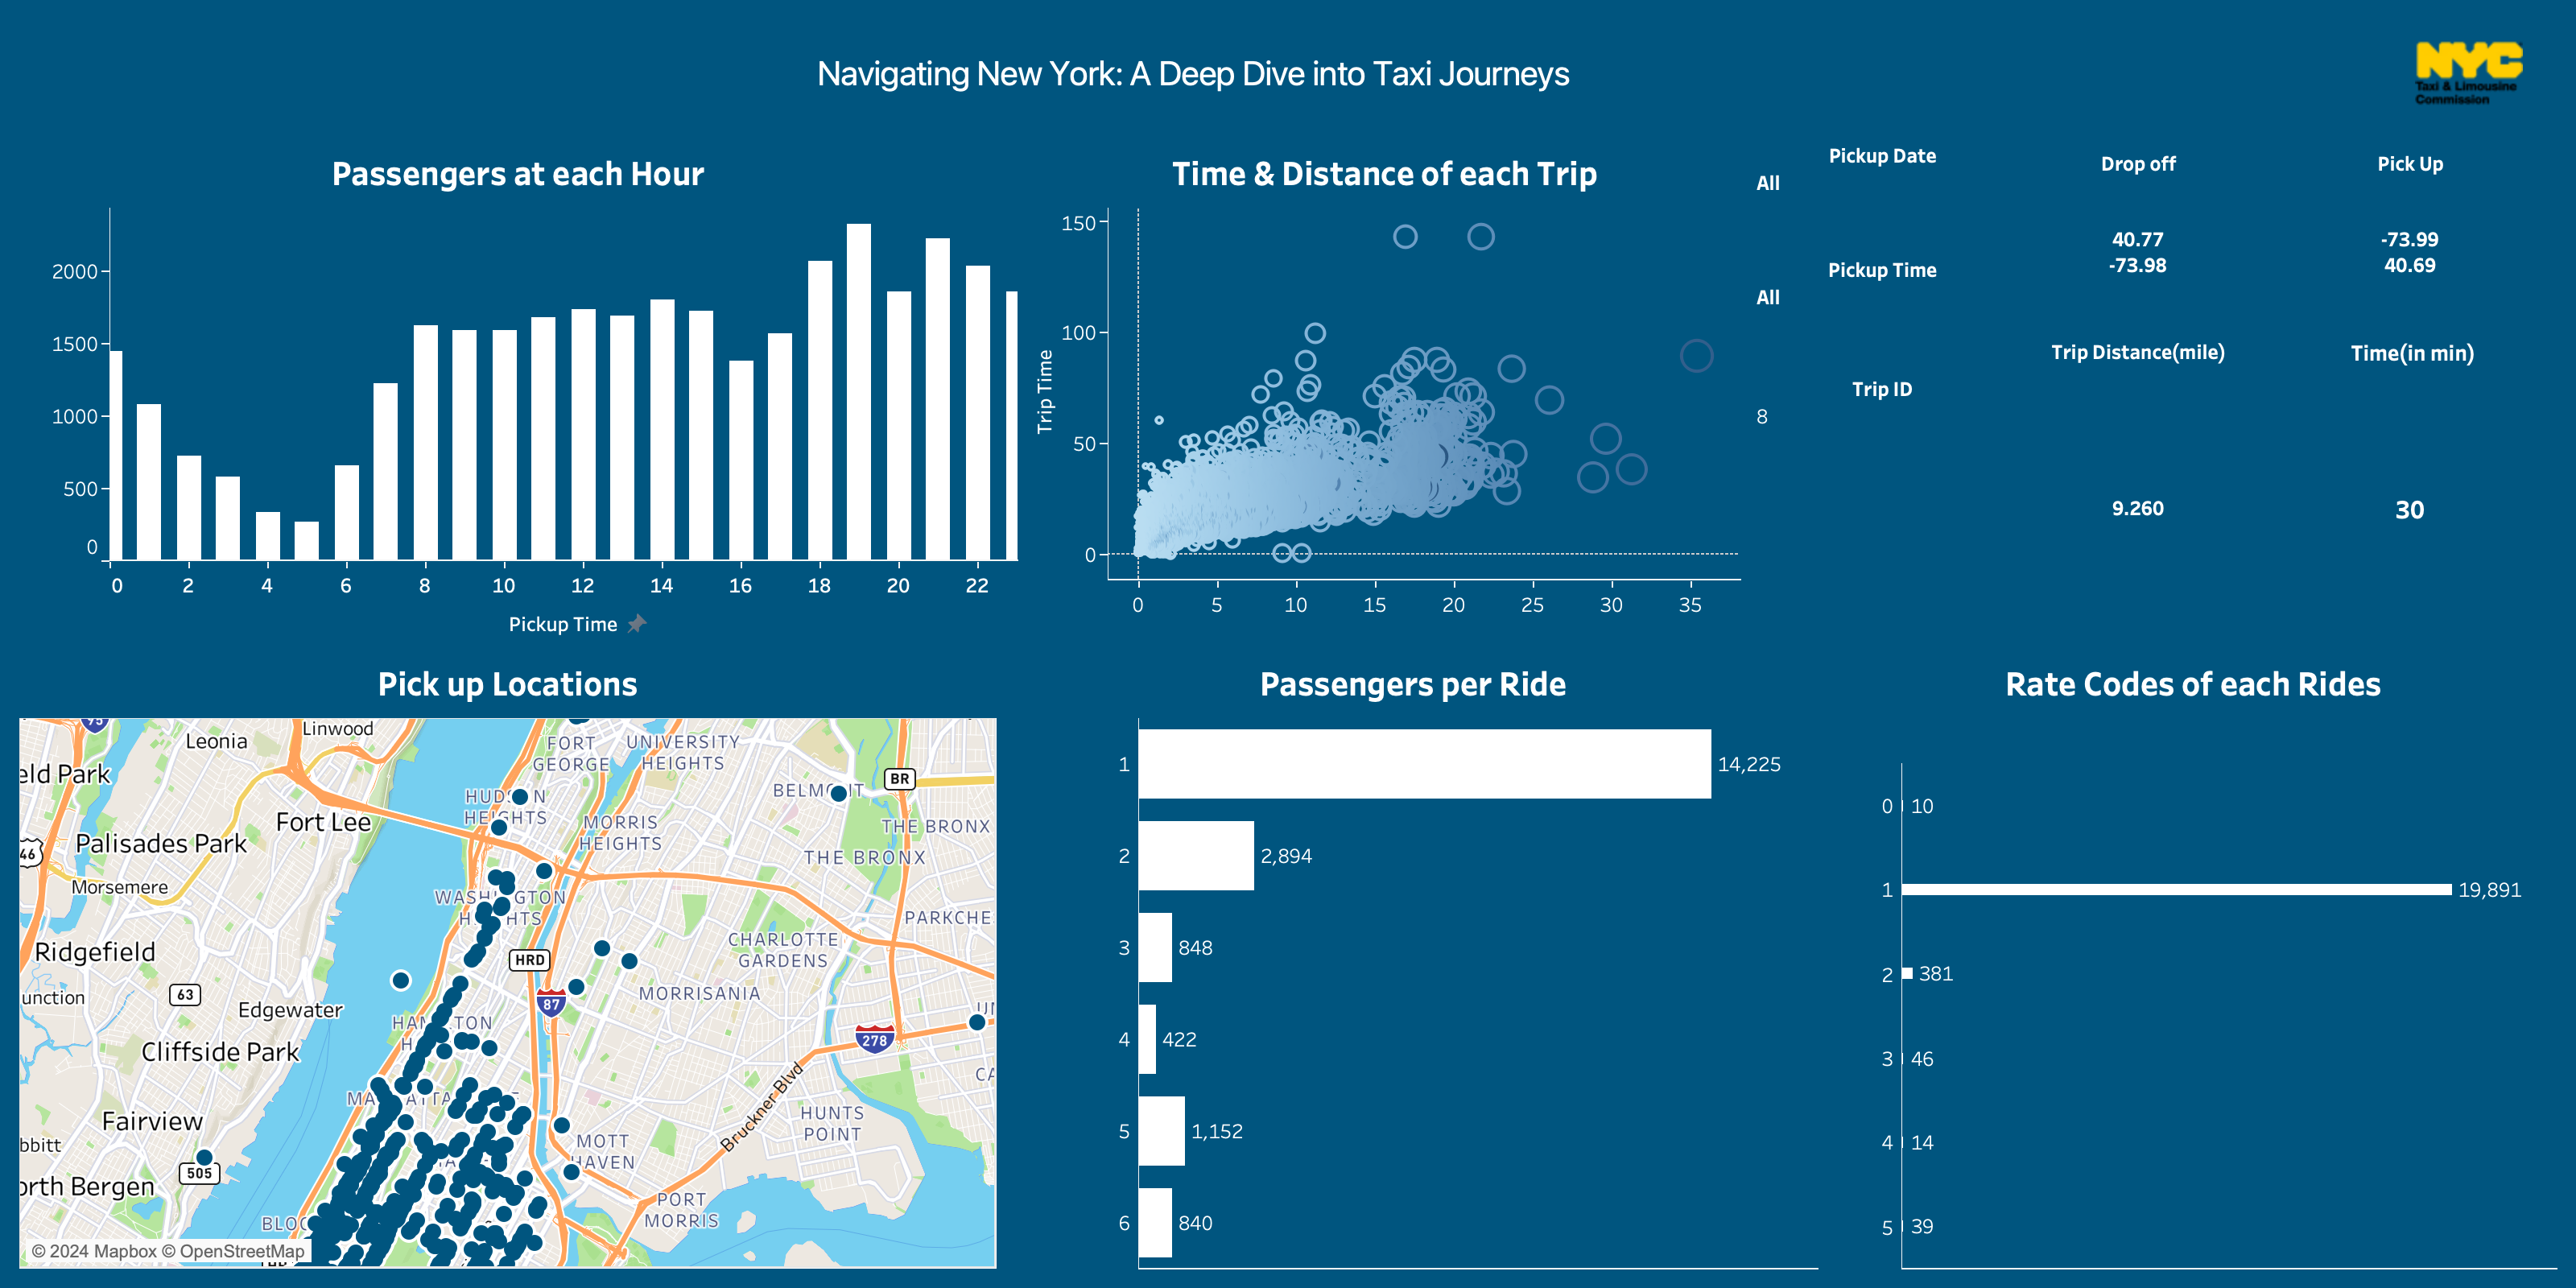

What the dashboard file says about the page in this screenshot:
{"tool":"tableau","page":{"name":"Dashboard 1","canvas":[1600,800],"ordinal":0},"visuals":[{"type":"text","box":[8,8,1467,75]},{"type":"image","param":"C:/Users/HP/Documents/MASTERS/IA640 Information Visualization/PROJECTS/300px-Nyc","box":[1475,8,117,75]},{"type":"worksheet","title":"passengers count","mark":"Bar","rows":["passenger_count"],"cols":["pickup_time"],"box":[8,83,628,317]},{"type":"worksheet","title":"trip time and distance","mark":"Automatic","rows":["trip_time"],"cols":["trip_distance"],"box":[636,83,449,317]},{"type":"filter","title":"passengers count","param":"[federated.1dwaf4h18ldvnn135dt520udojub].[dy:pickup_date:ok]","box":[1085,83,169,71.3]},{"type":"worksheet","title":"drop off  details","mark":"Automatic","box":[1254,83,148.8,117.5]},{"type":"worksheet","title":"pick up details","mark":"Automatic","box":[1402.7,83,189.3,117.5]},{"type":"filter","title":"passengers count","param":"[federated.1dwaf4h18ldvnn135dt520udojub].[none:pickup_time:ok]","box":[1085,154.3,169,73.6]},{"type":"worksheet","title":"detail: trip distance","mark":"Automatic","box":[1254,200.4,149,199.6]},{"type":"worksheet","title":"detail: trip time","mark":"Automatic","box":[1403,200.4,189,199.6]},{"type":"filter","title":"detail: trip time","param":"[federated.1dwaf4h18ldvnn135dt520udojub].[none:Trip_ID:ok]","box":[1085,227.9,169,172.1]},{"type":"worksheet","title":"pick up","mark":"Automatic","rows":["pickup_latitude"],"cols":["pickup_longitude"],"box":[8,400,615,392]},{"type":"worksheet","title":"total passenger count","mark":"Bar","rows":["passenger_count"],"cols":["Trip_ID"],"box":[623,400,510.1,392]},{"type":"worksheet","title":"rate code","mark":"Bar","rows":["rate_code"],"cols":["Trip_ID"],"box":[1133.1,400,458.9,392]}]}

Visuals, with their boxes in screenshot pixels (x1, y1, x2, y2), scaled from the page's 1600x800 canvas onto the 2576x1288 screenshot:
text: 13, 13, 2375, 134
image: 2375, 13, 2563, 134
"passengers count" worksheet (Bar marks): 13, 134, 1024, 644
"trip time and distance" worksheet: 1024, 134, 1747, 644
"passengers count" filter: 1747, 134, 2019, 249
"drop off  details" worksheet: 2019, 134, 2259, 323
"pick up details" worksheet: 2258, 134, 2563, 323
"passengers count" filter: 1747, 249, 2019, 367
"detail: trip distance" worksheet: 2019, 323, 2259, 644
"detail: trip time" worksheet: 2259, 323, 2563, 644
"detail: trip time" filter: 1747, 367, 2019, 644
"pick up" worksheet: 13, 644, 1003, 1275
"total passenger count" worksheet (Bar marks): 1003, 644, 1824, 1275
"rate code" worksheet (Bar marks): 1824, 644, 2563, 1275
